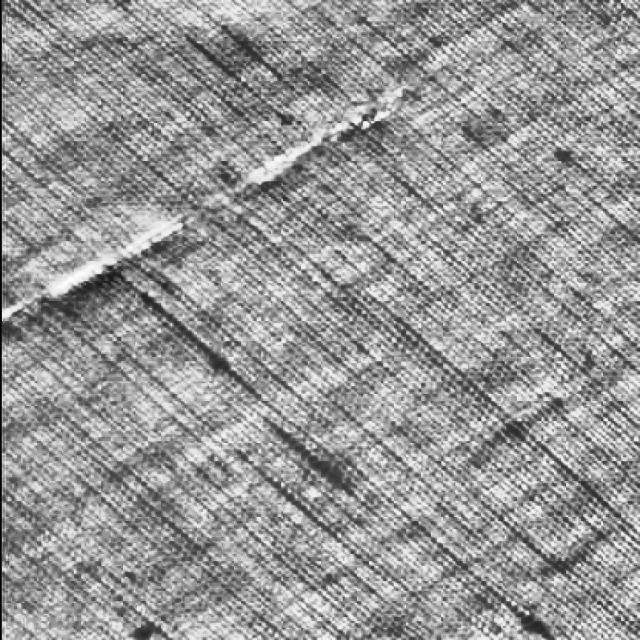thread_error: (3, 88, 395, 336)
